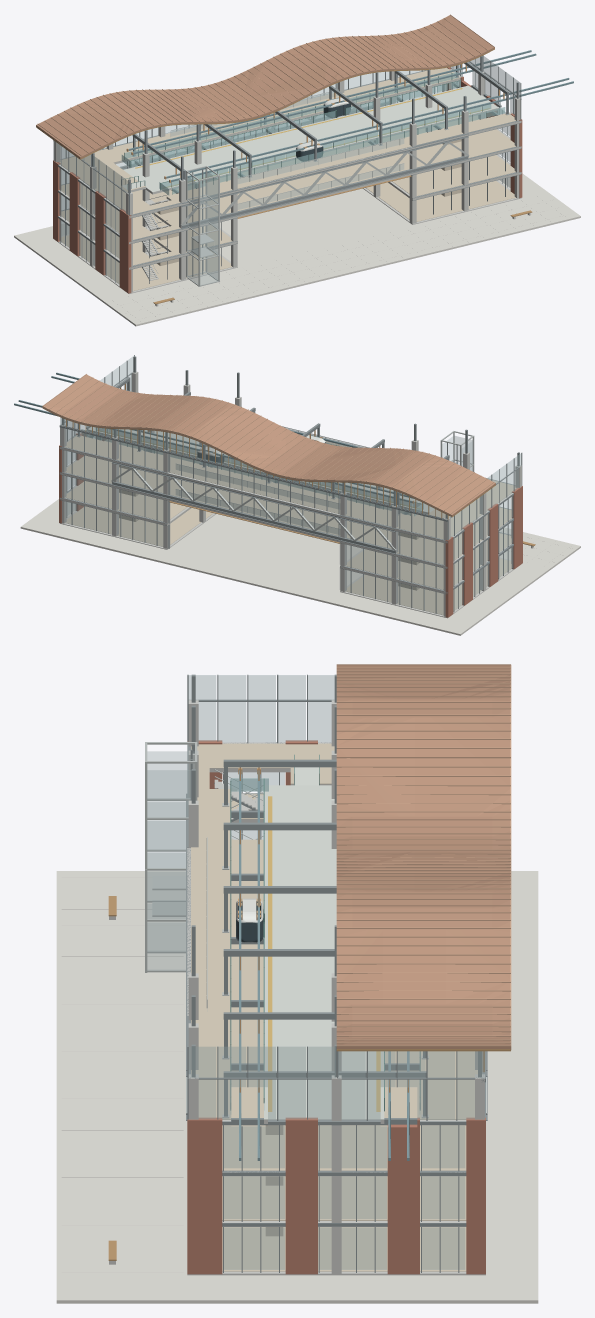
Rendered from T1_Xinhua_Gate_Cutaway_V02.glb.
3 renders of one model, top to bottom at view 1: azimuth 30°, elevation 25°; view 2: azimuth 150°, elevation 25°; view 3: azimuth 270°, elevation 25°, orthographic. The views are drawn at different scales.
Parts seen in each view (by area): view 1: DISPLAY_PLINTH_0001, COPPER_WAVE_ROOF_0001, FLOOR_FINISH_0006, STATION_PLATFORM_FINISH_0001, FLOOR_FINISH_0005, FLOOR_FINISH_0002, FLOOR_FINISH_0001, FLOOR_SLABS_0006_transfer, FLOOR_FINISH_0004, FLOOR_FINISH_0003, STATION_OUTER_GUARD_0001, STATION_OUTER_GUARD_0027 (+34 smaller); view 2: DISPLAY_PLINTH_0001, COPPER_WAVE_ROOF_0001, FLOOR_FINISH_0005, FLOOR_FINISH_0006, FLOOR_FINISH_0002, FLOOR_FINISH_0001, FLOOR_FINISH_0003, FLOOR_FINISH_0004, STATION_PLATFORM_FINISH_0001, FLOOR_SLABS_0006_transfer, BACK_ROOF_EDGE_0001, FLOOR_SLABS_0005_transfer (+28 smaller); view 3: DISPLAY_PLINTH_0001, COPPER_WAVE_ROOF_0001, STATION_PLATFORM_FINISH_0001, FLOOR_FINISH_0006, FLOOR_FINISH_0005, FLOOR_FINISH_0002, FLOOR_FINISH_0004, SIDE_BRICK_WALLS_0005, SIDE_BRICK_WALLS_0006, SIDE_BRICK_WALLS_0007, SIDE_BRICK_WALLS_0008, SIDE_GLAZING_0010 (+43 smaller).
Boxes of the visible parts, box(x1,y1,x2,y2) form: DISPLAY_PLINTH_0001: box(14, 173, 580, 326); COPPER_WAVE_ROOF_0001: box(36, 15, 494, 158); FLOOR_FINISH_0006: box(59, 67, 515, 214); STATION_PLATFORM_FINISH_0001: box(123, 85, 498, 192); FLOOR_FINISH_0005: box(61, 115, 515, 239); FLOOR_FINISH_0002: box(366, 181, 515, 221); FLOOR_FINISH_0001: box(61, 234, 231, 291); FLOOR_SLABS_0006_transfer: box(59, 69, 521, 218); FLOOR_FINISH_0004: box(392, 155, 515, 196); FLOOR_FINISH_0003: box(61, 209, 231, 265); STATION_OUTER_GUARD_0001: box(172, 107, 505, 193); STATION_OUTER_GUARD_0027: box(125, 72, 457, 158); DISPLAY_PLINTH_0001: box(20, 499, 580, 635); COPPER_WAVE_ROOF_0001: box(43, 374, 495, 515); FLOOR_FINISH_0005: box(65, 439, 511, 564); FLOOR_FINISH_0006: box(65, 435, 515, 539); FLOOR_FINISH_0002: box(65, 506, 213, 546); FLOOR_FINISH_0001: box(345, 558, 511, 614); FLOOR_FINISH_0003: box(346, 533, 511, 589); FLOOR_FINISH_0004: box(65, 481, 187, 521); STATION_PLATFORM_FINISH_0001: box(88, 427, 434, 512); FLOOR_SLABS_0006_transfer: box(59, 438, 513, 542); BACK_ROOF_EDGE_0001: box(42, 406, 452, 516); FLOOR_SLABS_0005_transfer: box(59, 460, 511, 568); DISPLAY_PLINTH_0001: box(56, 871, 538, 1303); COPPER_WAVE_ROOF_0001: box(336, 665, 510, 1048); STATION_PLATFORM_FINISH_0001: box(264, 785, 384, 1119); FLOOR_FINISH_0006: box(191, 743, 477, 1119); FLOOR_FINISH_0005: box(222, 794, 466, 1170); FLOOR_FINISH_0002: box(222, 1227, 466, 1271); FLOOR_FINISH_0004: box(222, 1176, 466, 1220); SIDE_BRICK_WALLS_0005: box(187, 1117, 222, 1274); SIDE_BRICK_WALLS_0006: box(285, 1117, 317, 1274); SIDE_BRICK_WALLS_0007: box(387, 1117, 419, 1274); SIDE_BRICK_WALLS_0008: box(466, 1117, 485, 1274); SIDE_GLAZING_0010: box(224, 1227, 284, 1269).
Bounding box in the file's own units: 88.8 × 22.77 × 38.7.
